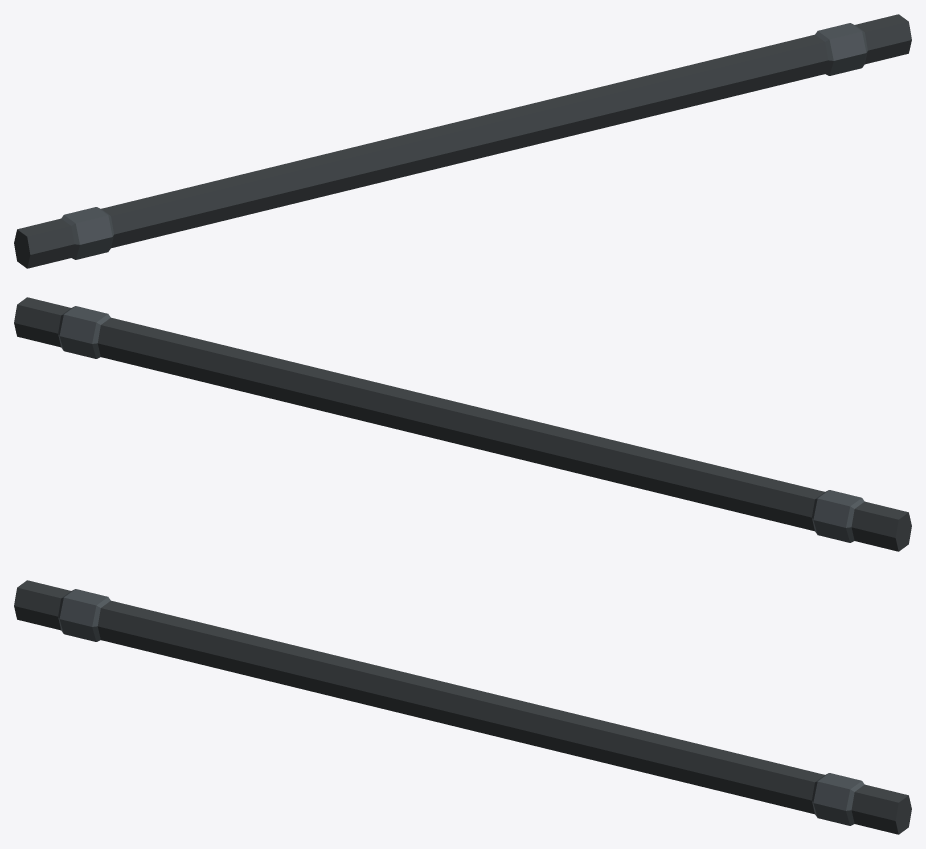
The model's file is SM_Bld_Wall_Shutter_03.obj.
3 renders of one model, top to bottom at view 1: azimuth 30°, elevation 25°; view 2: azimuth 150°, elevation 25°; view 3: azimuth 330°, elevation 25°, orthographic.
Parts seen in each view (by area): view 1: SM_Bld_Wall_Shutter_03_0; view 2: SM_Bld_Wall_Shutter_03_0; view 3: SM_Bld_Wall_Shutter_03_0.
Part boxes in pixels (box(x1,y1,x2,y2)): SM_Bld_Wall_Shutter_03_0: box(14, 14, 911, 268); SM_Bld_Wall_Shutter_03_0: box(14, 297, 911, 551); SM_Bld_Wall_Shutter_03_0: box(14, 580, 911, 834).
Bounding box in the file's own units: 5 × 0.1985 × 0.2013.
1 material, 1 textured.
